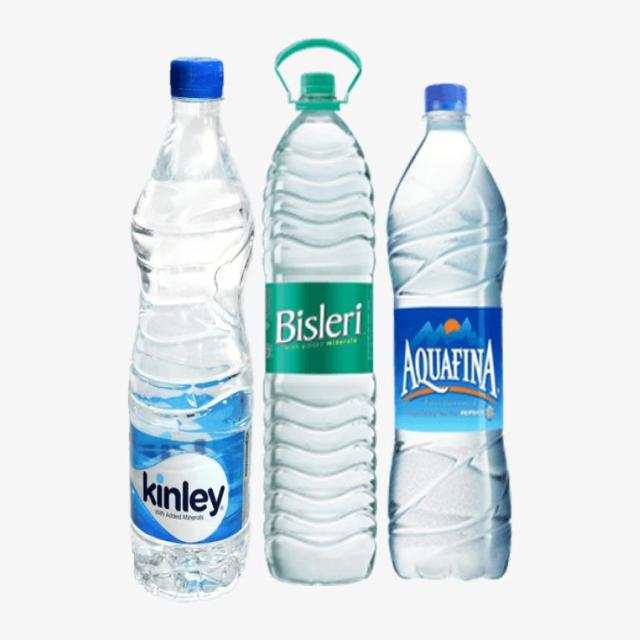bottle: (118, 40, 258, 609), (385, 70, 515, 607), (260, 62, 380, 602)
